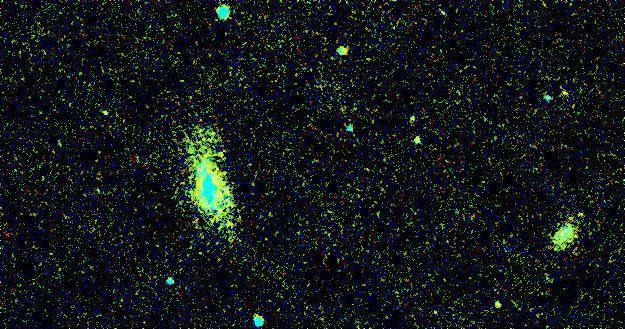star: (478, 287, 508, 317)
